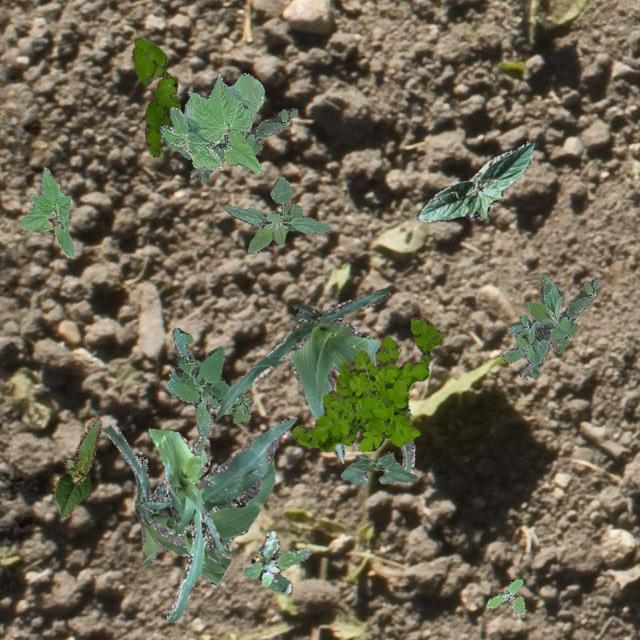crop: (214, 286, 414, 472), (105, 416, 295, 584), (142, 428, 222, 622), (158, 73, 264, 174), (416, 137, 536, 220), (18, 166, 74, 256), (54, 416, 100, 518), (340, 450, 416, 484)
weed: (290, 316, 442, 451), (499, 274, 598, 378), (165, 326, 252, 436), (178, 106, 296, 180), (224, 176, 332, 253), (130, 36, 180, 156), (242, 530, 308, 594), (486, 578, 524, 616)
